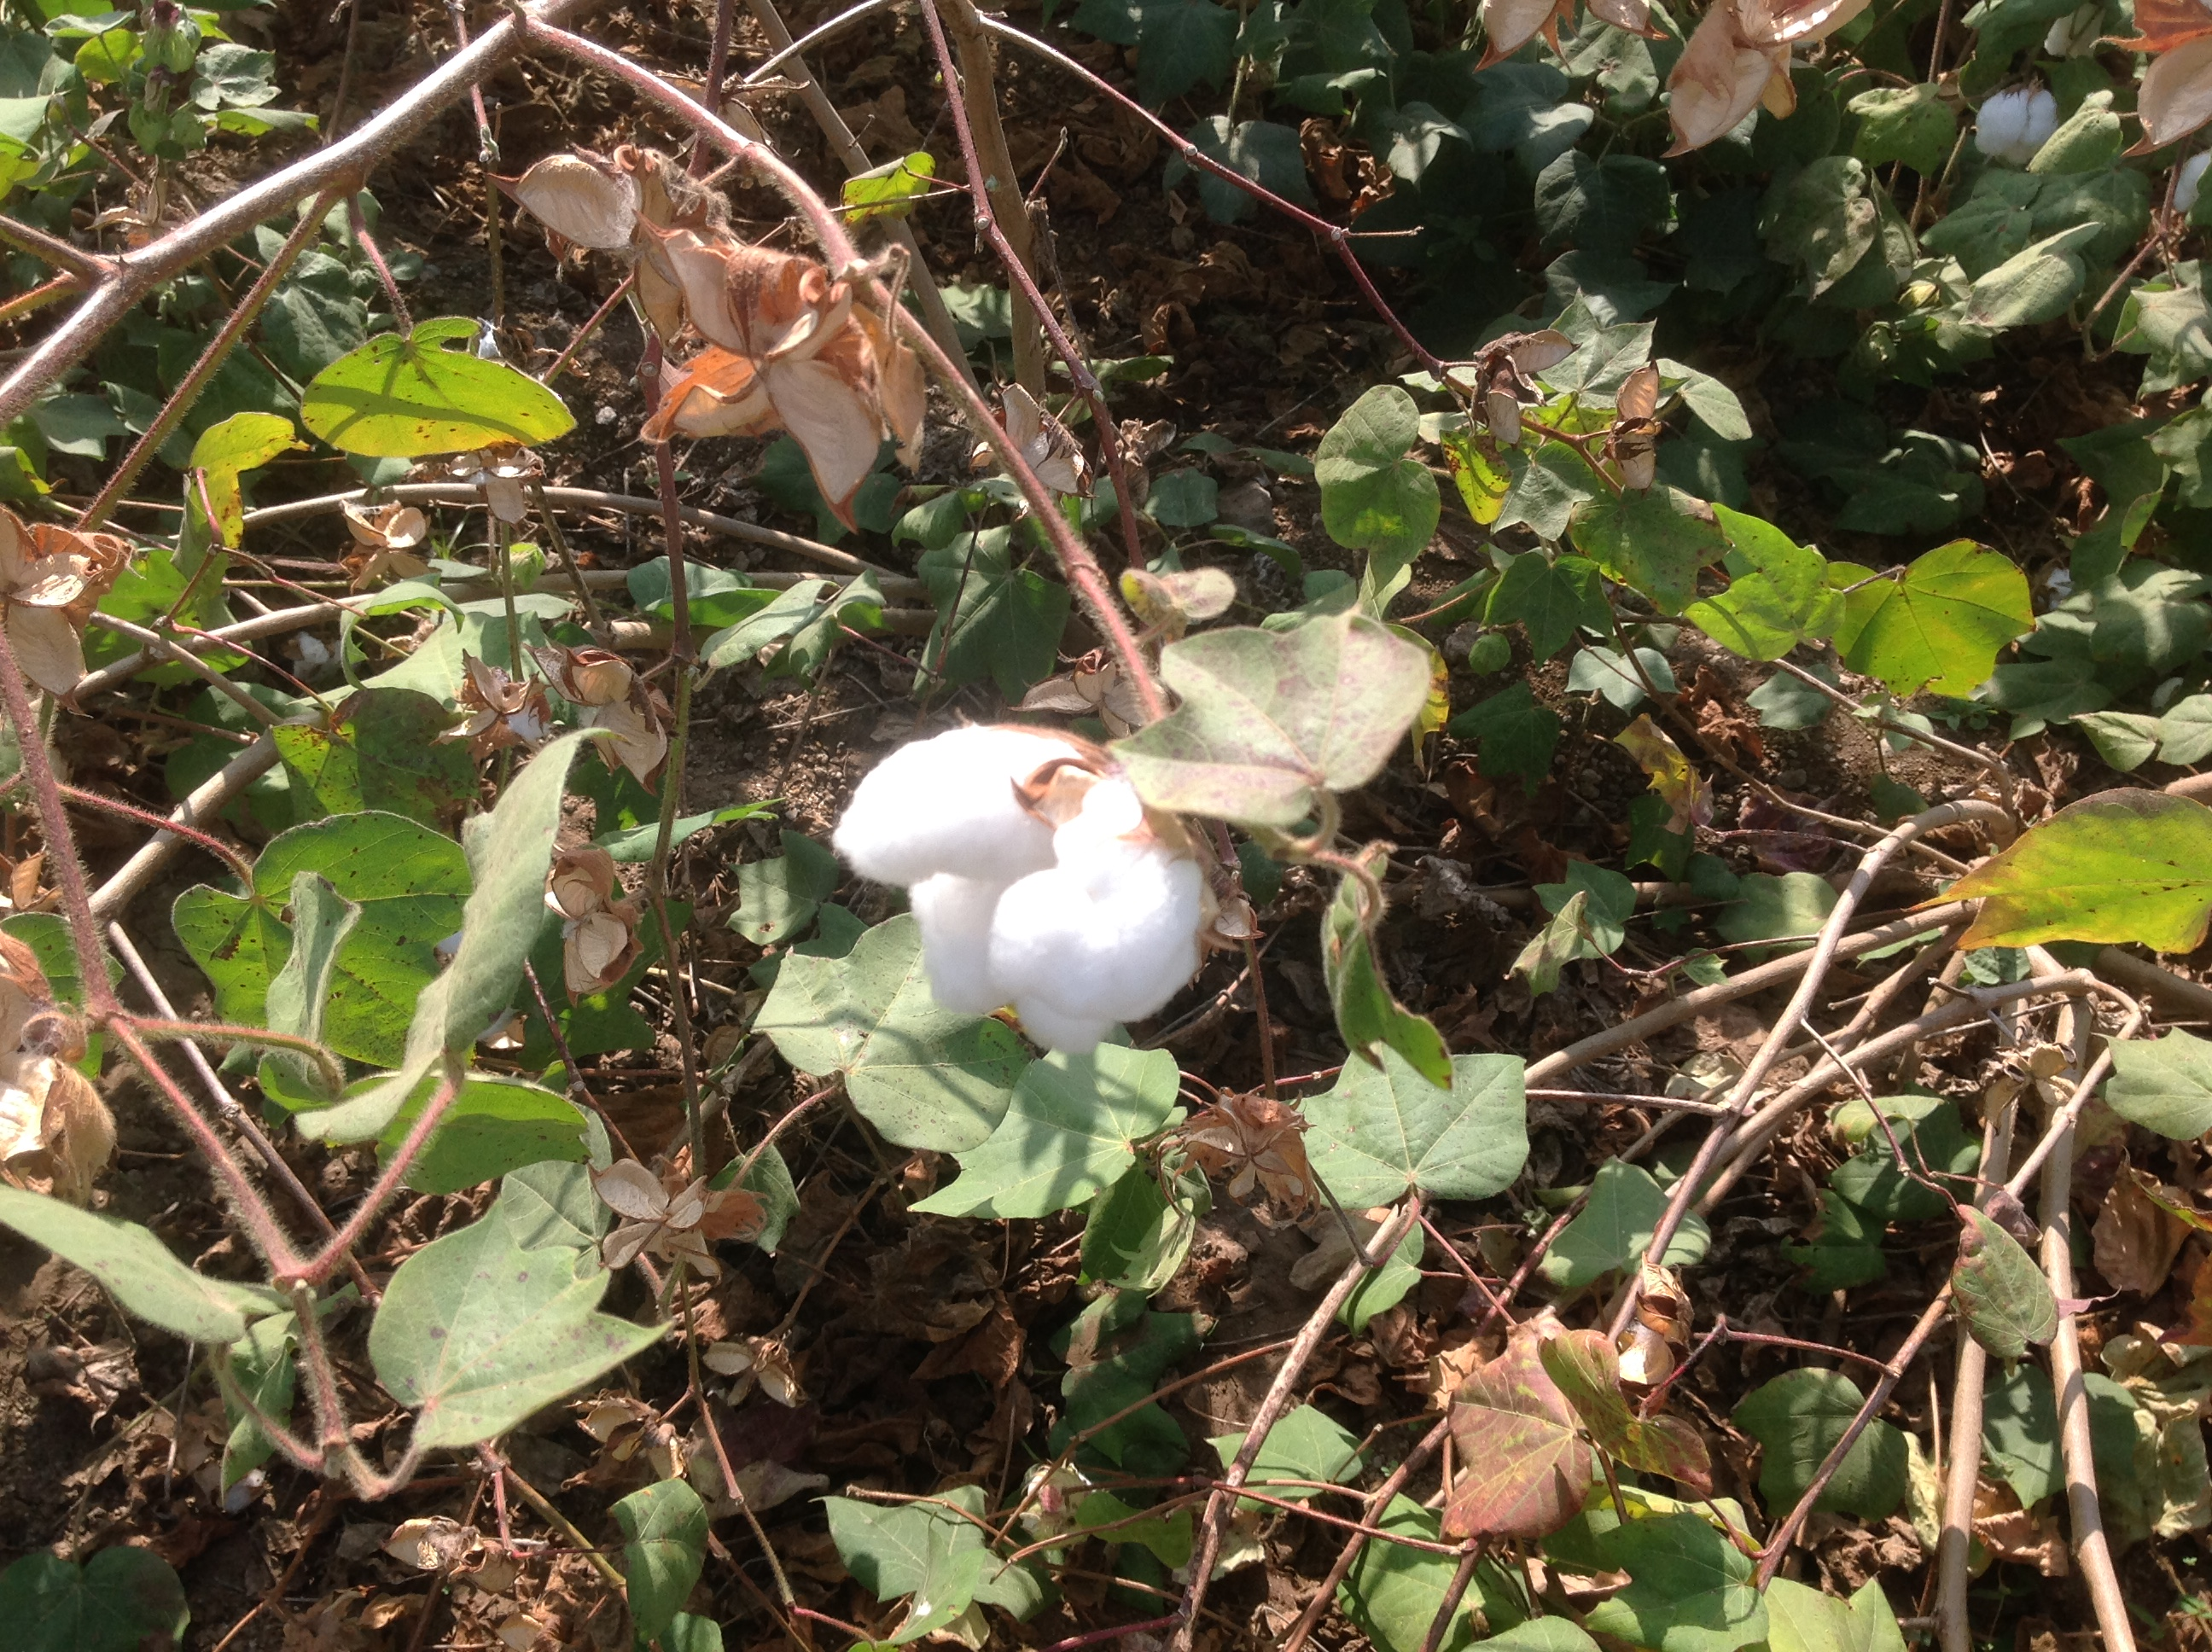cotton: (840, 717, 1232, 1078), (1964, 76, 2077, 174)
